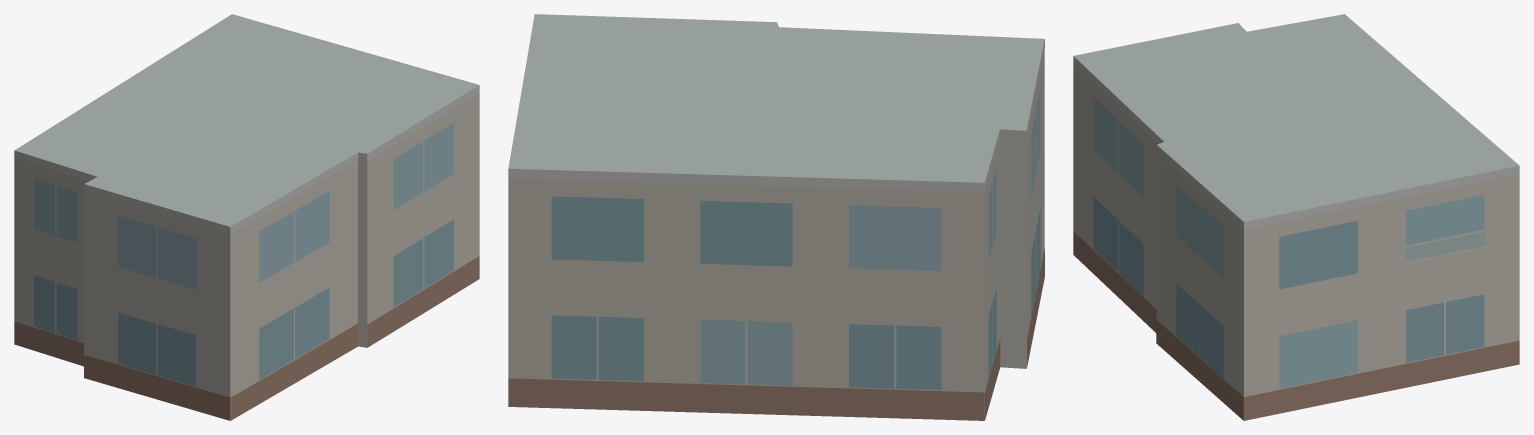
Rendered from survey-upis-32702406.glb.
3 renders of one model, left to right at view 1: azimuth 30°, elevation 25°; view 2: azimuth 150°, elevation 25°; view 3: azimuth 270°, elevation 25°, orthographic. The views are drawn at different scales.
Visible parts, largest first — view 1: survey-upis-32702406.tmp; view 2: survey-upis-32702406.tmp; view 3: survey-upis-32702406.tmp.
Boxes of the visible parts, x1,y1,x2,y2 form: survey-upis-32702406.tmp: (14,14,479,420); survey-upis-32702406.tmp: (508,14,1044,420); survey-upis-32702406.tmp: (1073,14,1519,420).
Size of the model in its own units: 13.7 by 6.1 by 12.42.
